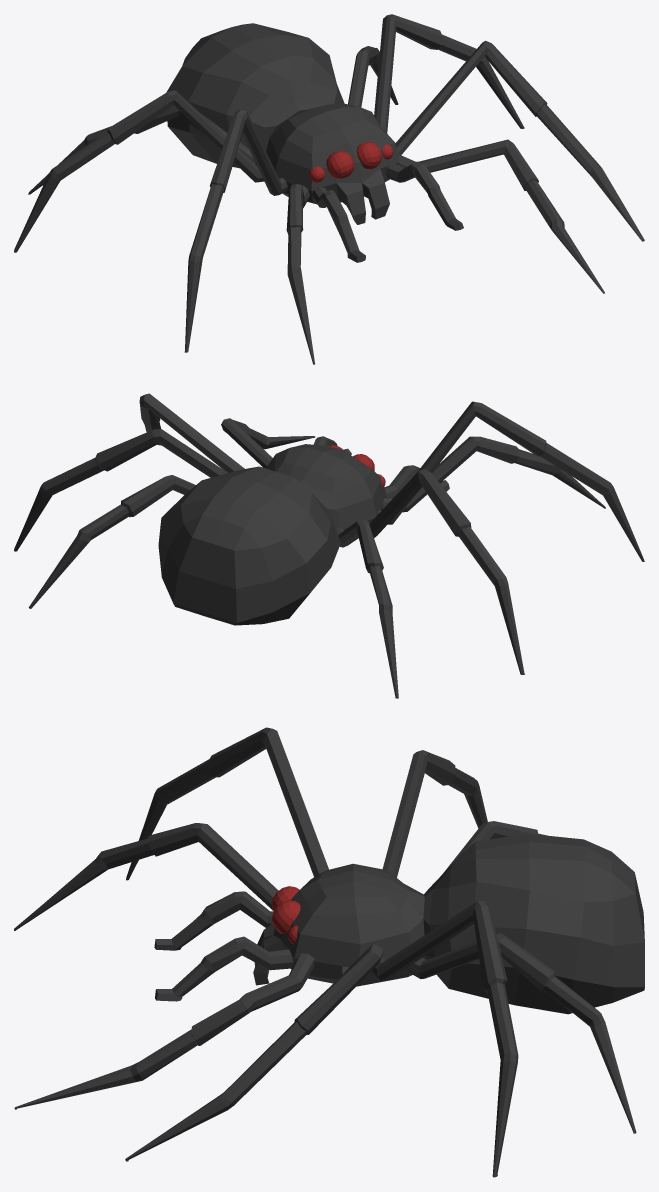
The model's file is q-easy-enemies-spider.glb.
3 views of the same model, one above another, from view 1: azimuth 30°, elevation 25°; view 2: azimuth 150°, elevation 25°; view 3: azimuth 270°, elevation 25° (orthographic). The views are drawn at different scales.
Visible parts, largest first — view 1: Material, Material.001; view 2: Material; view 3: Material, Material.001.
Boxes of the visible parts, bbox=[...] form: Material: bbox=[14, 14, 644, 364]; Material.001: bbox=[308, 142, 393, 182]; Material: bbox=[14, 393, 644, 698]; Material: bbox=[14, 727, 644, 1177]; Material.001: bbox=[271, 886, 300, 944].
Bounding box in the file's own units: 5.93 × 1.93 × 5.03.
